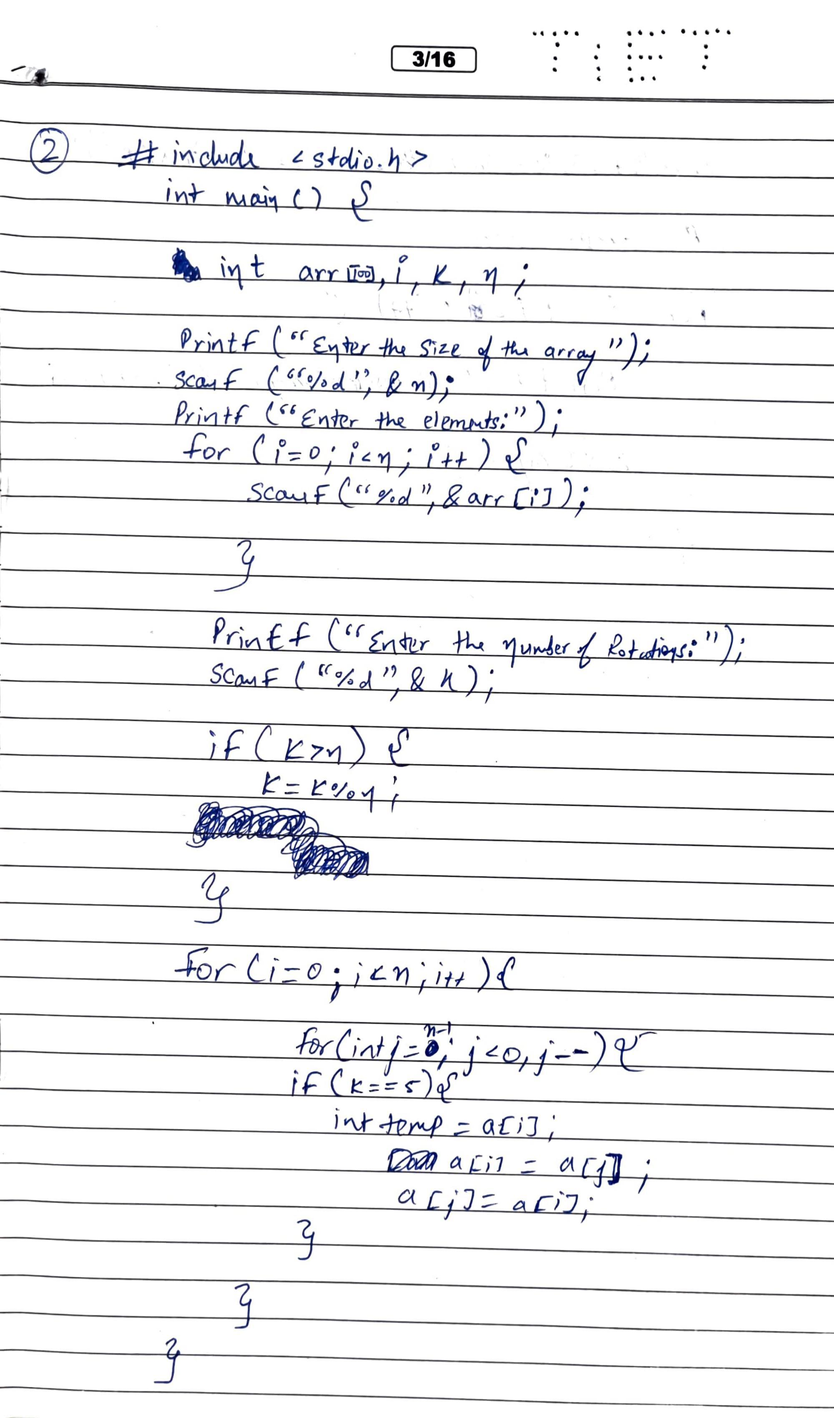cuttings: (184, 799, 372, 882), (383, 1146, 441, 1175), (170, 245, 206, 286), (424, 1038, 440, 1058)
